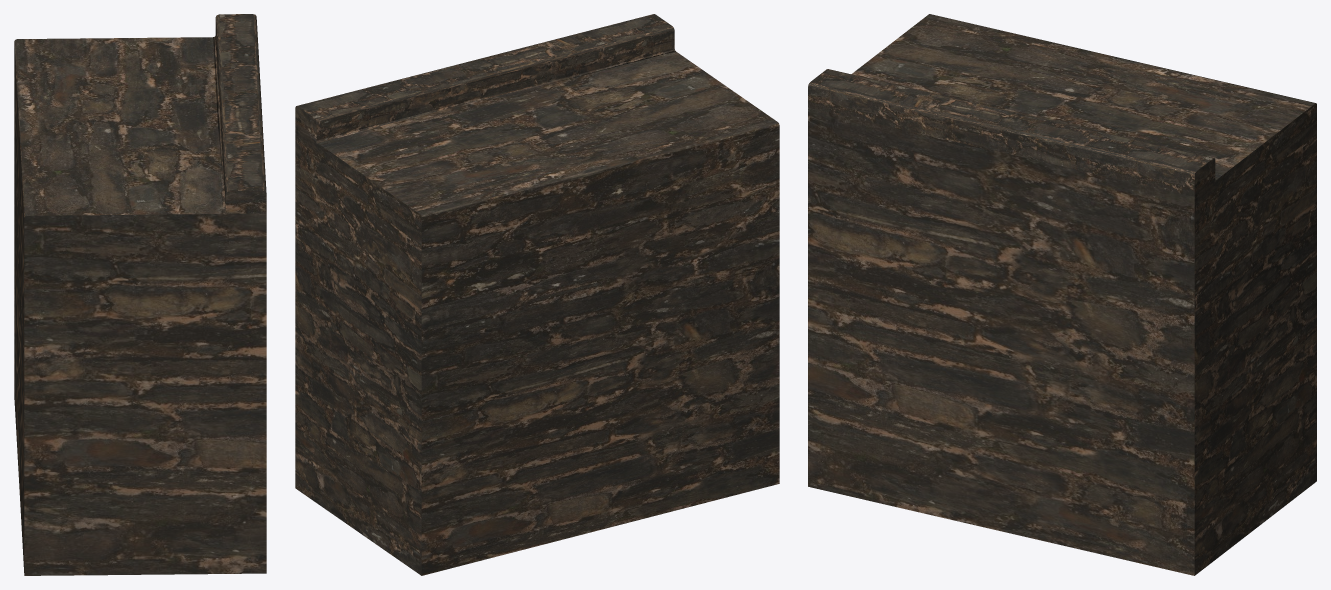
File: block_18.glb
3 views of the same model, side by side, from view 1: azimuth 30°, elevation 25°; view 2: azimuth 150°, elevation 25°; view 3: azimuth 270°, elevation 25° (orthographic). The views are drawn at different scales.
Visible parts, largest first — view 1: block_18; view 2: block_18; view 3: block_18.
Part boxes in pixels (x1,y1,x2,y2): block_18: (14,14,266,575); block_18: (295,14,779,575); block_18: (808,14,1316,575).
Size of the model in its own units: 1.92 by 1.96 by 2.24.
Materials: 2 (2 with a texture image).
